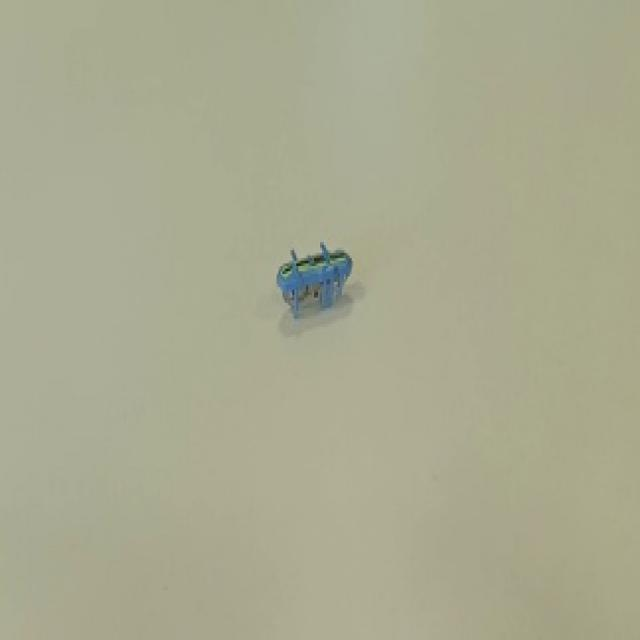3_NanoBug_Celeste: (231, 228, 383, 356)
